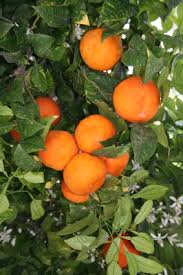orange: (72, 117, 120, 158), (115, 80, 162, 121), (81, 28, 124, 70), (63, 161, 107, 193), (38, 134, 78, 165)
